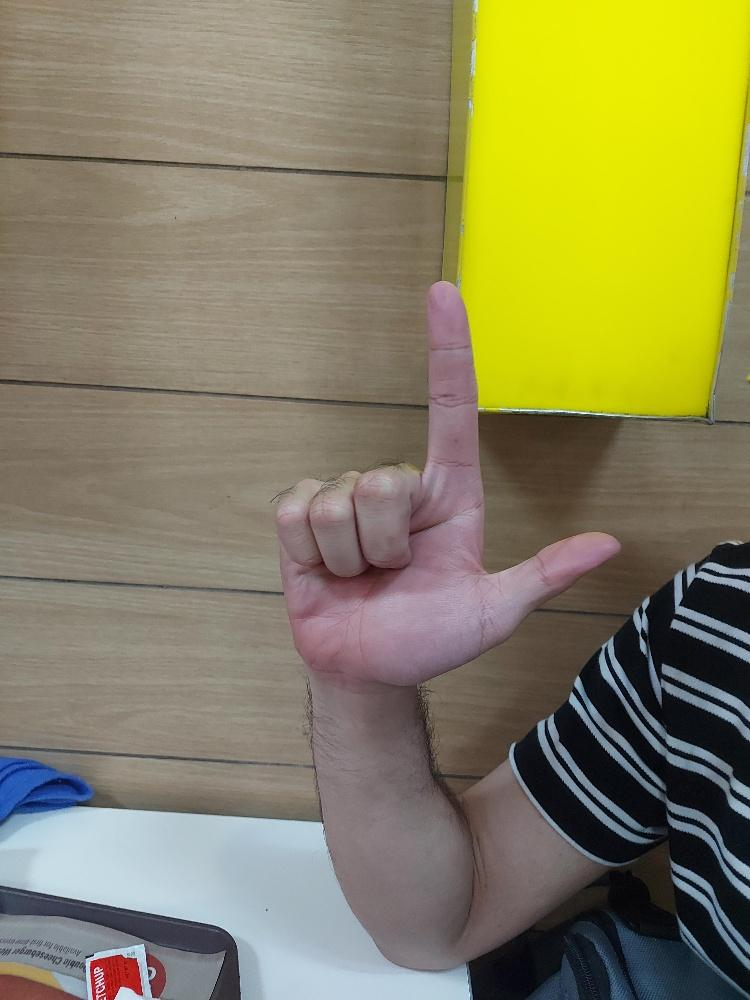l: (276, 276, 624, 689)
